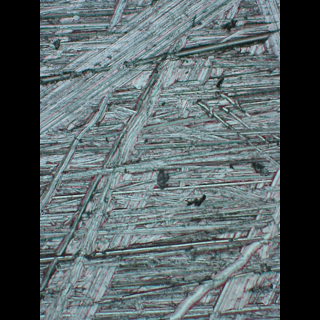d: (40, 5, 280, 319)
